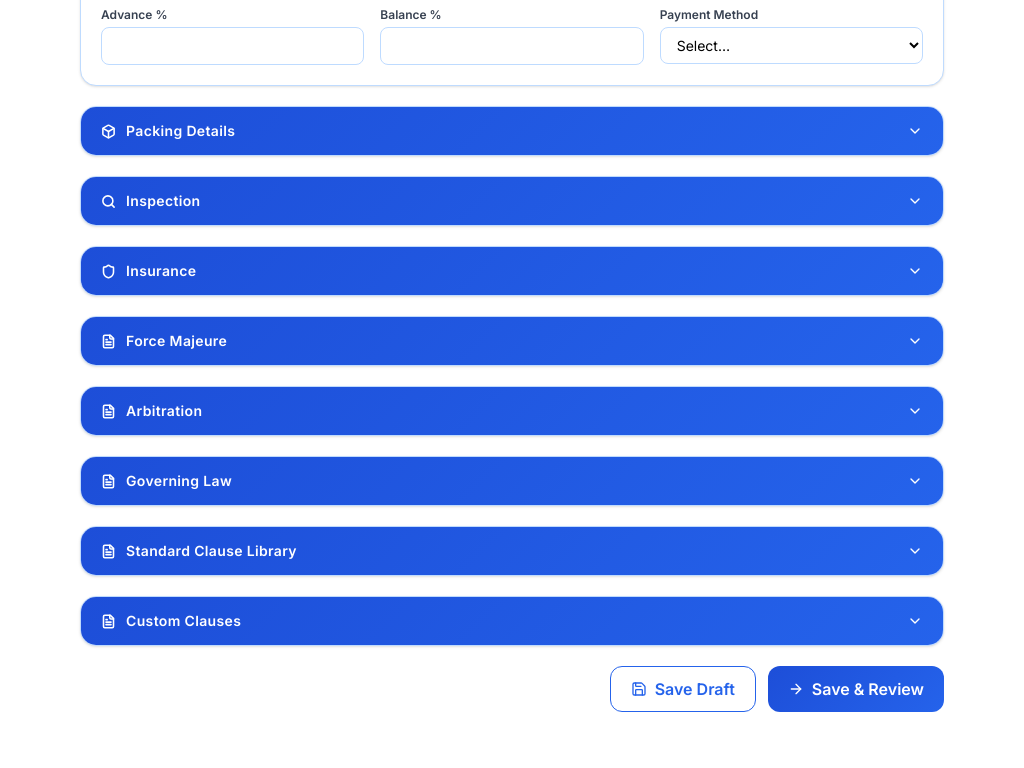
Test: ContractDraftFormPage › adds a custom clause when "Add Clause" is clicked
(page scrolled)
What coordinates should you click on to do the following:
click the button "Custom Clauses"
I would click on:
 (184, 620)
Its box is x1=81 y1=597 x2=943 y2=645.
(page scrolled)
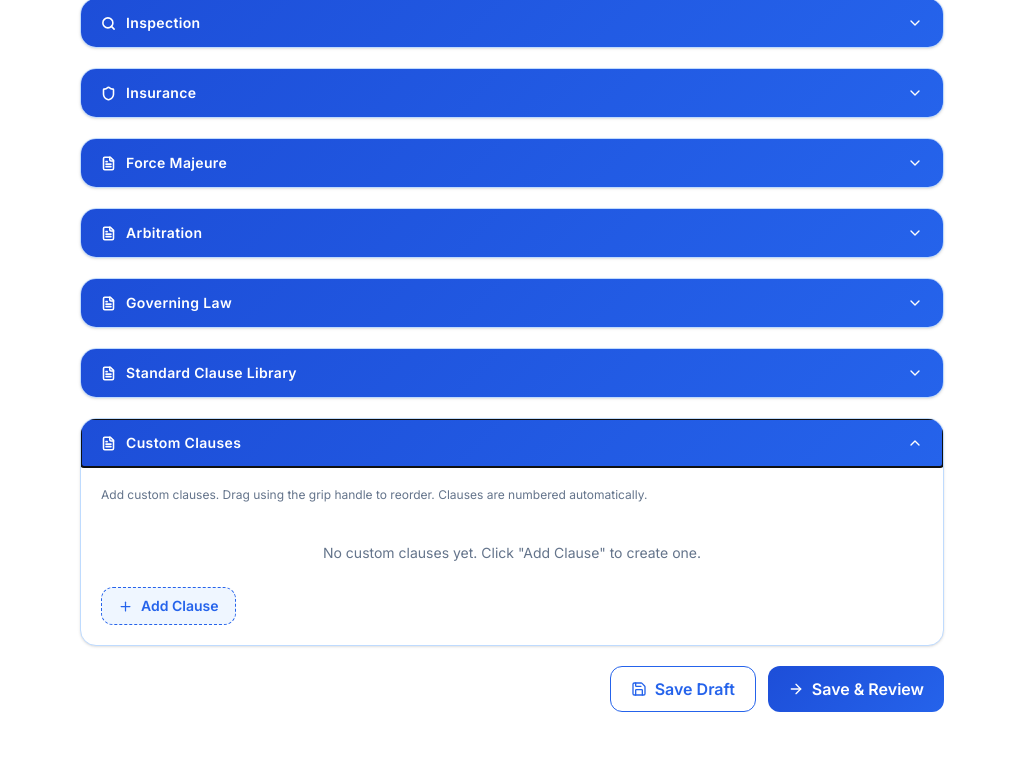
Check: the text "No custom clauses yet. Click \"Add Clause\" to create one." is shown, box x1=323 y1=544 x2=701 y2=561
What coordinates should you click on to do the following:
click the button "Add Clause"
I would click on:
 (168, 606)
Its box is x1=101 y1=587 x2=236 y2=625.
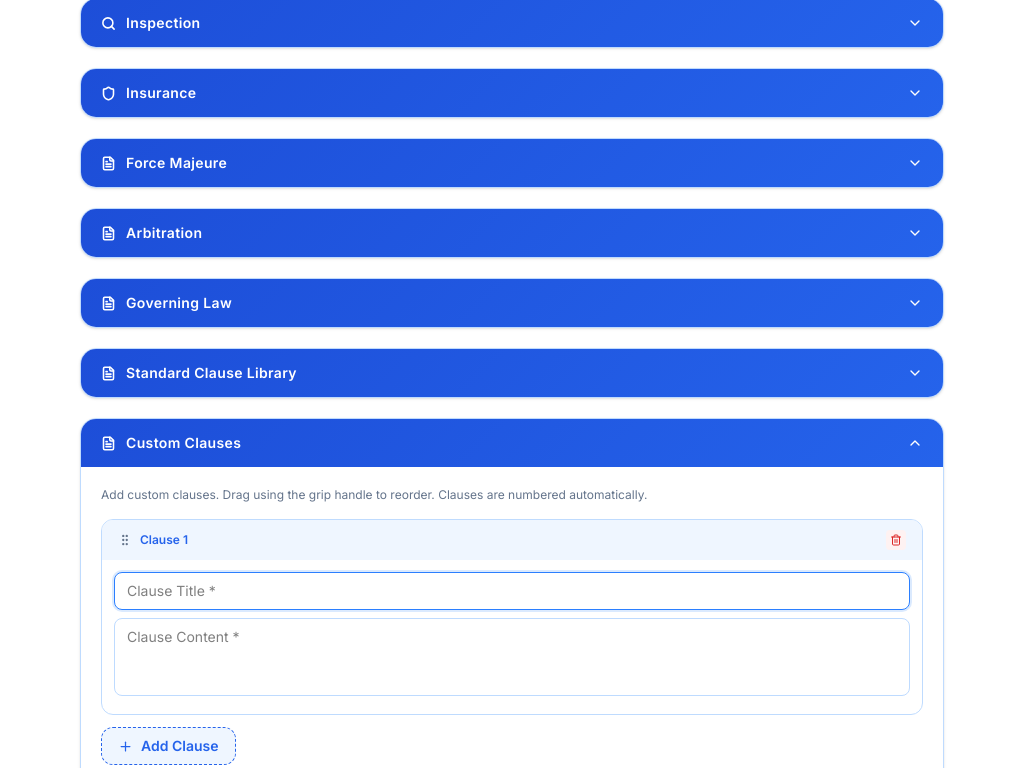
Check: the text "No custom clauses yet" is gone
Check: the text "Clause 1" is shown, box x1=140 y1=532 x2=188 y2=548
Check: the field with placeholder "Clause Title *" is shown, box x1=114 y1=572 x2=910 y2=610
